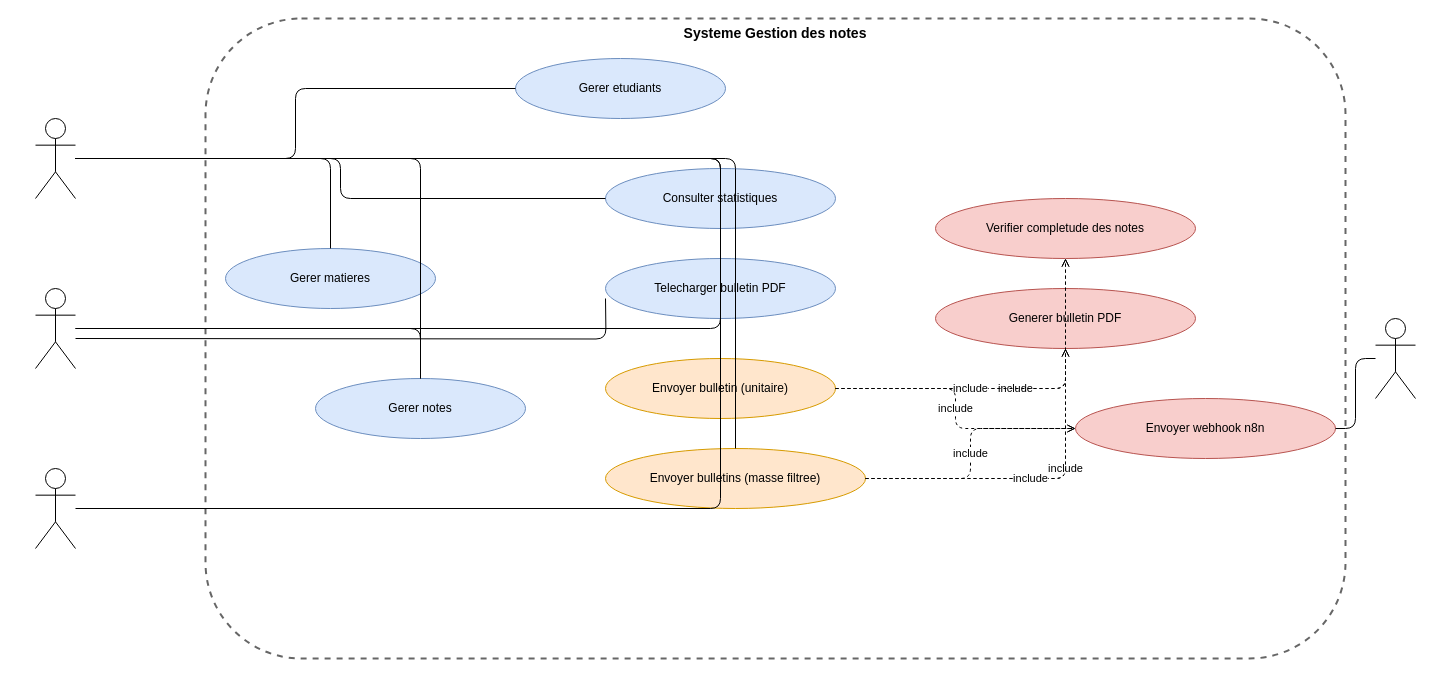
The diagram is 1444 pixels wide and 676 high, and some of its shapes have lost their labels. Each missing label, with the box of its shape:
Administrateur: (34, 118, 76, 198)
Enseignant: (34, 288, 76, 368)
Etudiant: (34, 468, 76, 548)
Service n8n: (1374, 318, 1416, 398)
